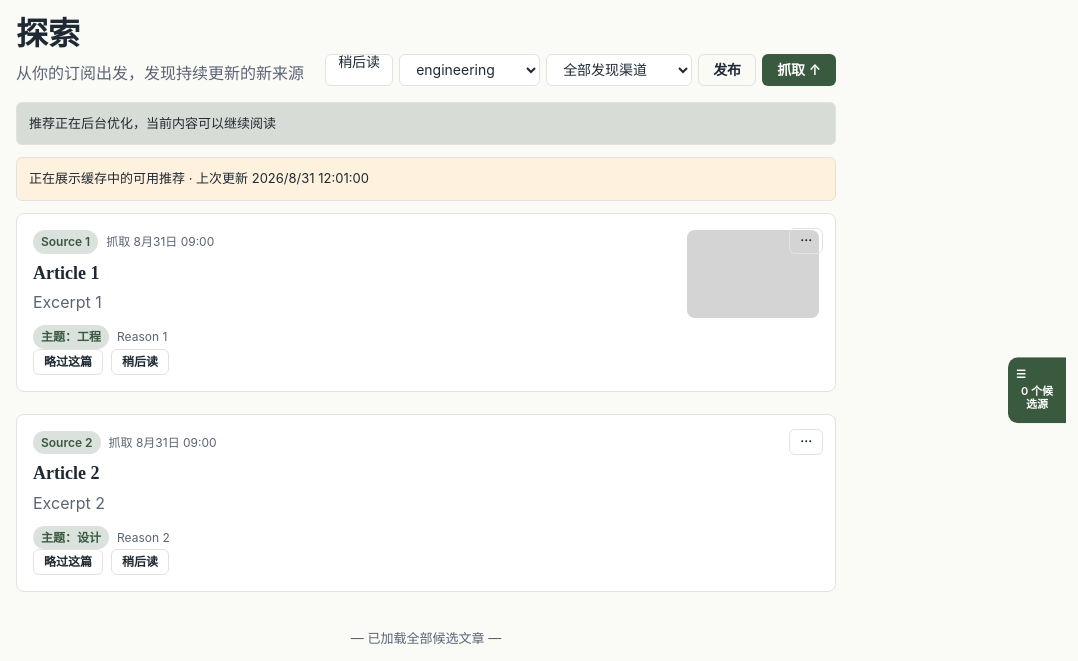
Test: ExplorePage › clears topic when opening later, preserves sort, and omits recommendation notices
The image size is (1078, 661).
Check: the button "Article 1" is shown, box [33, 262, 100, 285]
Click the link "稍后读" at (359, 70), box [325, 54, 393, 86]
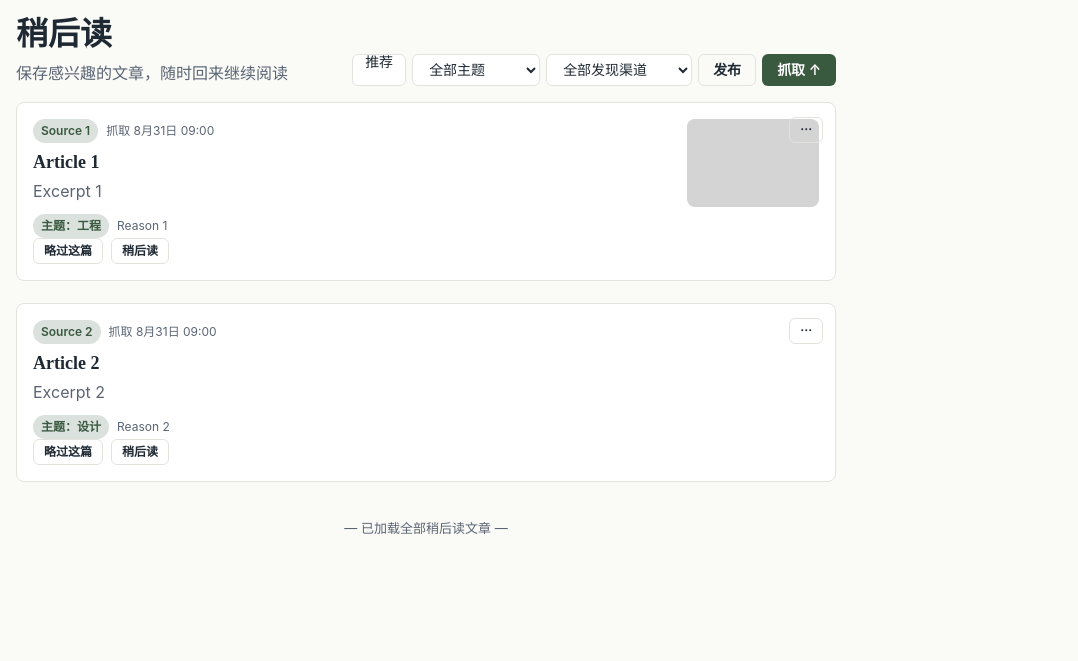
Check: the text "保存感兴趣的文章，随时回来继续阅读" is shown, box [16, 60, 288, 86]
Check: the text "推荐正在后台优化，当前内容可以继续阅读" is gone
Check: the text "正在展示缓存中的可用推荐" is gone
